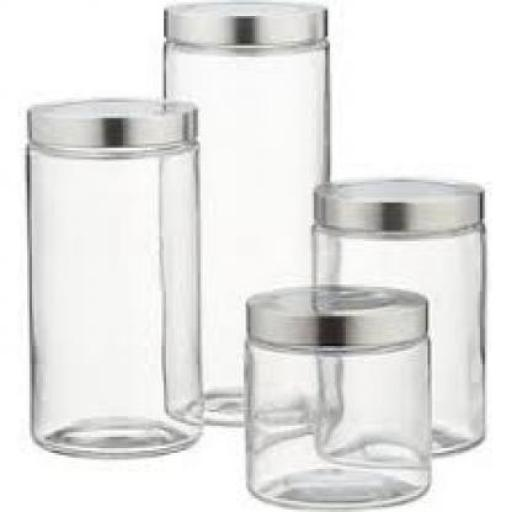glass: (159, 38, 328, 421), (26, 141, 202, 455), (309, 218, 482, 458), (244, 337, 430, 505)
metal: (246, 284, 425, 346), (25, 98, 193, 148), (314, 180, 480, 230), (159, 0, 323, 46)
